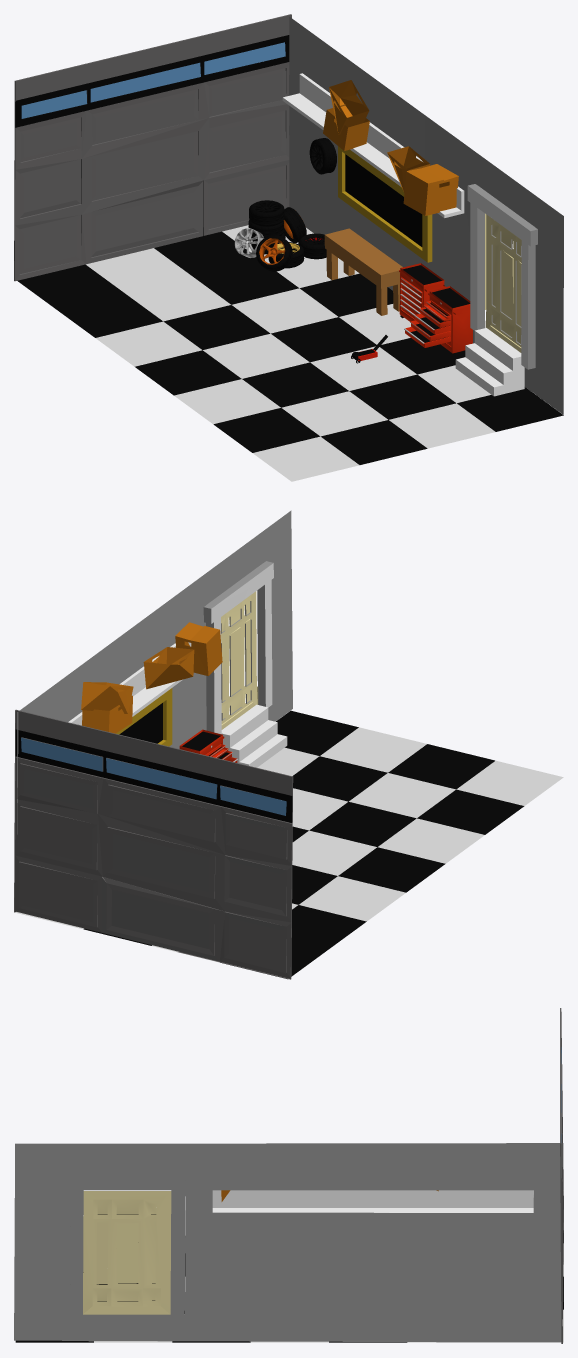
File: garage.glb
3 renders of one model, top to bottom at view 1: azimuth 30°, elevation 25°; view 2: azimuth 150°, elevation 25°; view 3: azimuth 270°, elevation 25°, orthographic.
Visible parts, largest first — view 1: Floor, Walls.001, Walls, Door, Board, TireStack, Bench, Walls.003, Drawer2, Cube, Drawer1, Cube.003 (+3 smaller); view 2: Walls.001, Floor, Walls, Door, Board, Cube, Cube.001, Cube.003, Walls.003, Cube.002, Drawer2; view 3: Walls, Door, Walls.003, Floor, Walls.001.
Boxes of the visible parts, x1,y1,x2,y2 form: Floor: (17, 225, 563, 481); Walls.001: (14, 14, 291, 281); Walls: (289, 17, 563, 414); Door: (455, 184, 537, 396); Board: (338, 146, 432, 262); TireStack: (234, 200, 326, 271); Bench: (324, 228, 402, 315); Walls.003: (282, 73, 464, 218); Drawer2: (404, 286, 472, 354); Cube: (403, 164, 458, 215); Drawer1: (399, 263, 445, 321); Cube.003: (329, 80, 369, 134); Walls.001: (14, 709, 293, 979); Floor: (15, 710, 563, 979); Walls: (17, 510, 292, 834); Door: (203, 561, 287, 767); Board: (116, 688, 172, 746); Cube: (175, 622, 222, 675); Cube.001: (143, 647, 194, 689); Cube.003: (81, 682, 133, 713); Walls.003: (68, 642, 191, 725); Cube.002: (82, 695, 132, 733); Drawer2: (179, 729, 238, 762); Walls: (14, 1143, 562, 1342); Door: (70, 1175, 185, 1341); Walls.003: (212, 1190, 533, 1212); Floor: (15, 1210, 563, 1342); Walls.001: (560, 1008, 563, 1343).
Size of the model in its own units: 1.02 by 0.7088 by 1.76.
